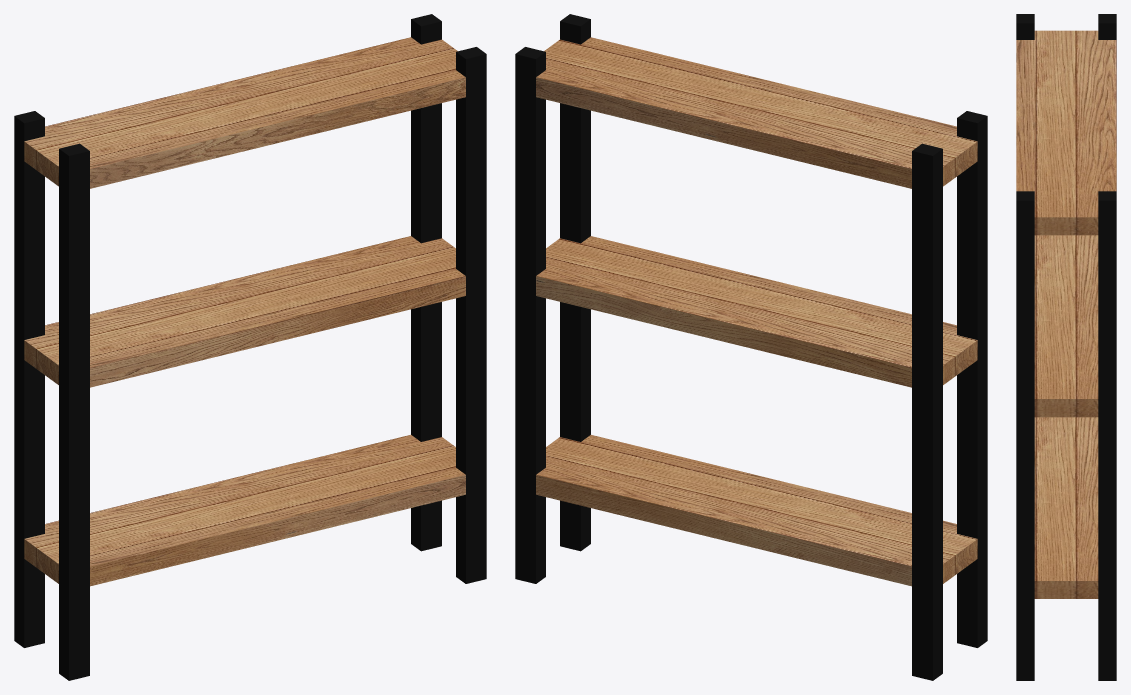
The model's file is shelf.obj.
The picture shows the model from 3 angles, left to right: view 1: azimuth 30°, elevation 25°; view 2: azimuth 150°, elevation 25°; view 3: azimuth 270°, elevation 25°; orthographic projection. The views are drawn at different scales.
Visible parts, largest first — view 1: Cube.001; view 2: Cube.001; view 3: Cube.001.
Part boxes in pixels (bbox=[...]): Cube.001: bbox=[14, 14, 486, 680]; Cube.001: bbox=[515, 14, 987, 680]; Cube.001: bbox=[1016, 14, 1116, 680].
Bounding box in the file's own units: 4.4 × 5.28 × 1.
Materials: 2 (1 with a texture image).
